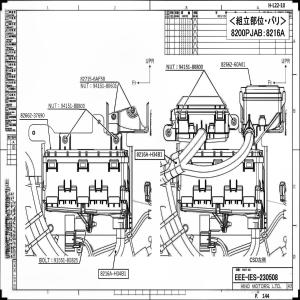PartNumber: (136, 150, 163, 158), (220, 61, 246, 68), (100, 270, 126, 277), (20, 111, 45, 118), (61, 102, 85, 109), (80, 75, 105, 81), (179, 64, 204, 70), (53, 256, 78, 262), (92, 83, 116, 88)
